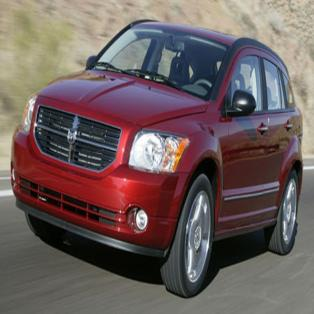Auto: (10, 18, 304, 298)
